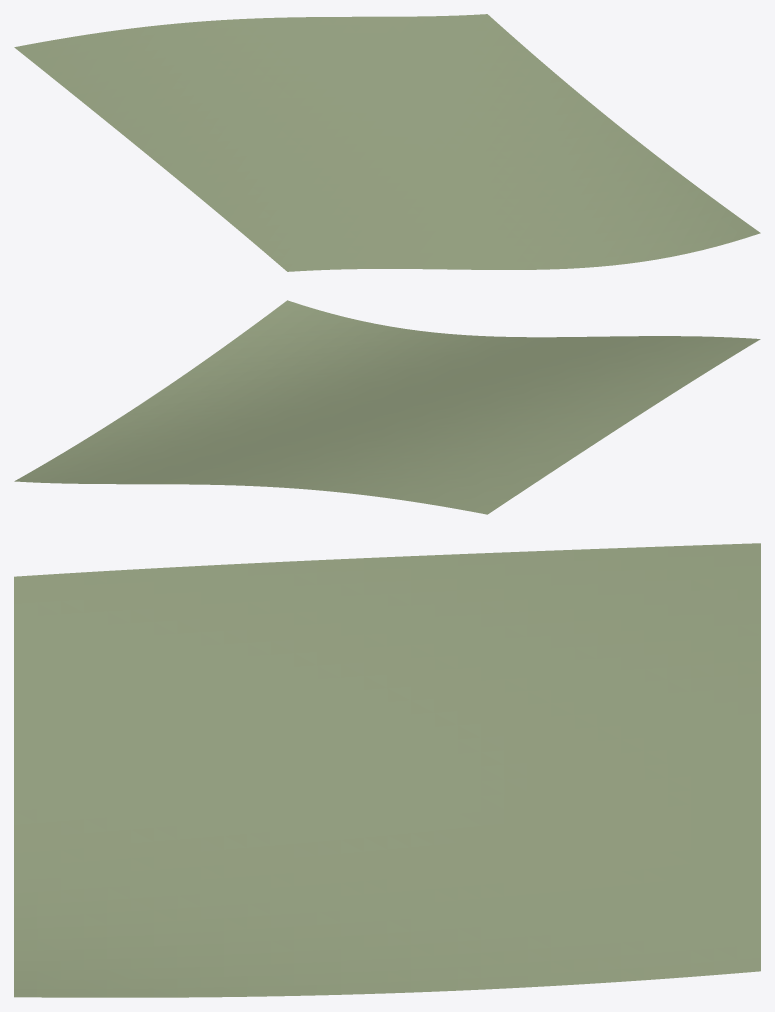
File: expanse-4-29.glb
3 renders of one model, top to bottom at view 1: azimuth 30°, elevation 25°; view 2: azimuth 150°, elevation 25°; view 3: azimuth 270°, elevation 25°, orthographic. The views are drawn at different scales.
Parts seen in each view (by area): view 1: expanse-4-29; view 2: expanse-4-29; view 3: expanse-4-29.
Boxes of the visible parts, box(x1,y1,x2,y2) form: expanse-4-29: box(14, 14, 760, 271); expanse-4-29: box(14, 300, 760, 514); expanse-4-29: box(14, 543, 760, 997).
Size of the model in its own units: 256 by 53.74 by 256.
